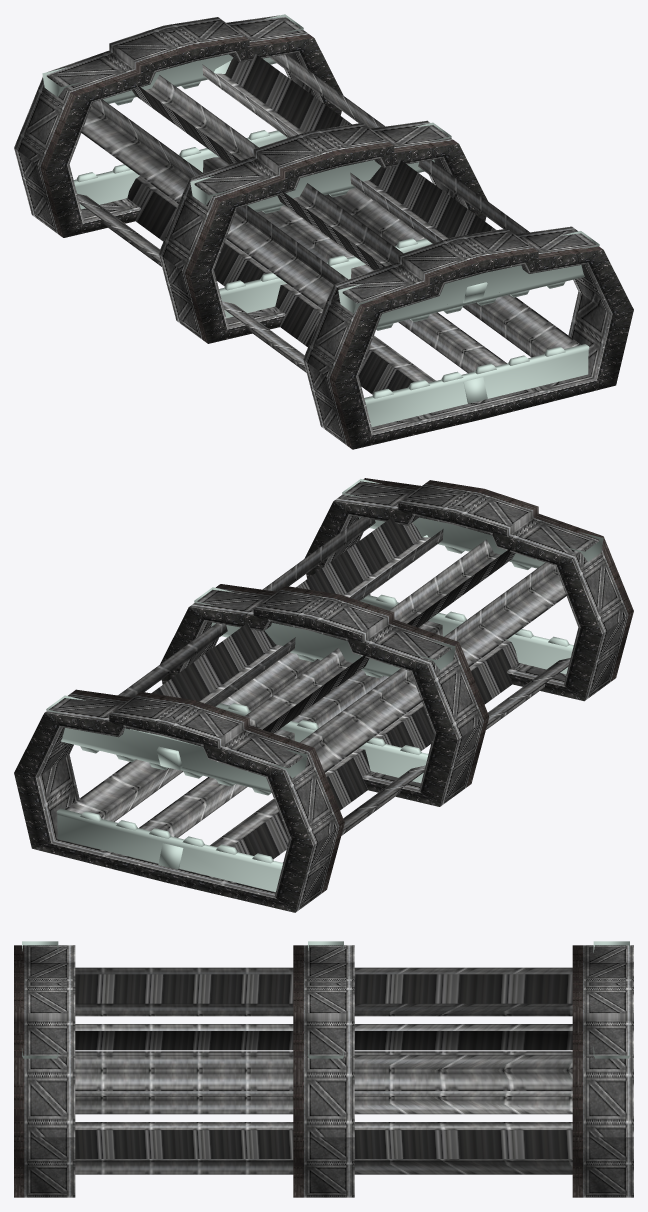
The model's file is center block.fbx.
3 renders of one model, top to bottom at view 1: azimuth 30°, elevation 25°; view 2: azimuth 150°, elevation 25°; view 3: azimuth 270°, elevation 25°, orthographic. The views are drawn at different scales.
Parts seen in each view (by area): view 1: Mesh_003, Mesh_004, Mesh_001; view 2: Mesh_003, Mesh_004, Mesh_001; view 3: Mesh_004, Mesh_003, Mesh_001.
Part boxes in pixels (left/top/right/bottom): Mesh_003: left=14, top=15, right=633, bottom=449; Mesh_004: left=42, top=14, right=599, bottom=330; Mesh_001: left=73, top=130, right=589, bottom=426; Mesh_003: left=14, top=478, right=633, bottom=912; Mesh_004: left=46, top=479, right=603, bottom=795; Mesh_001: left=56, top=594, right=573, bottom=891; Mesh_004: left=22, top=941, right=629, bottom=1090; Mesh_003: left=14, top=945, right=633, bottom=1197; Mesh_001: left=75, top=1051, right=572, bottom=1174.
Size of the model in its own units: 125 by 63.81 by 233.
